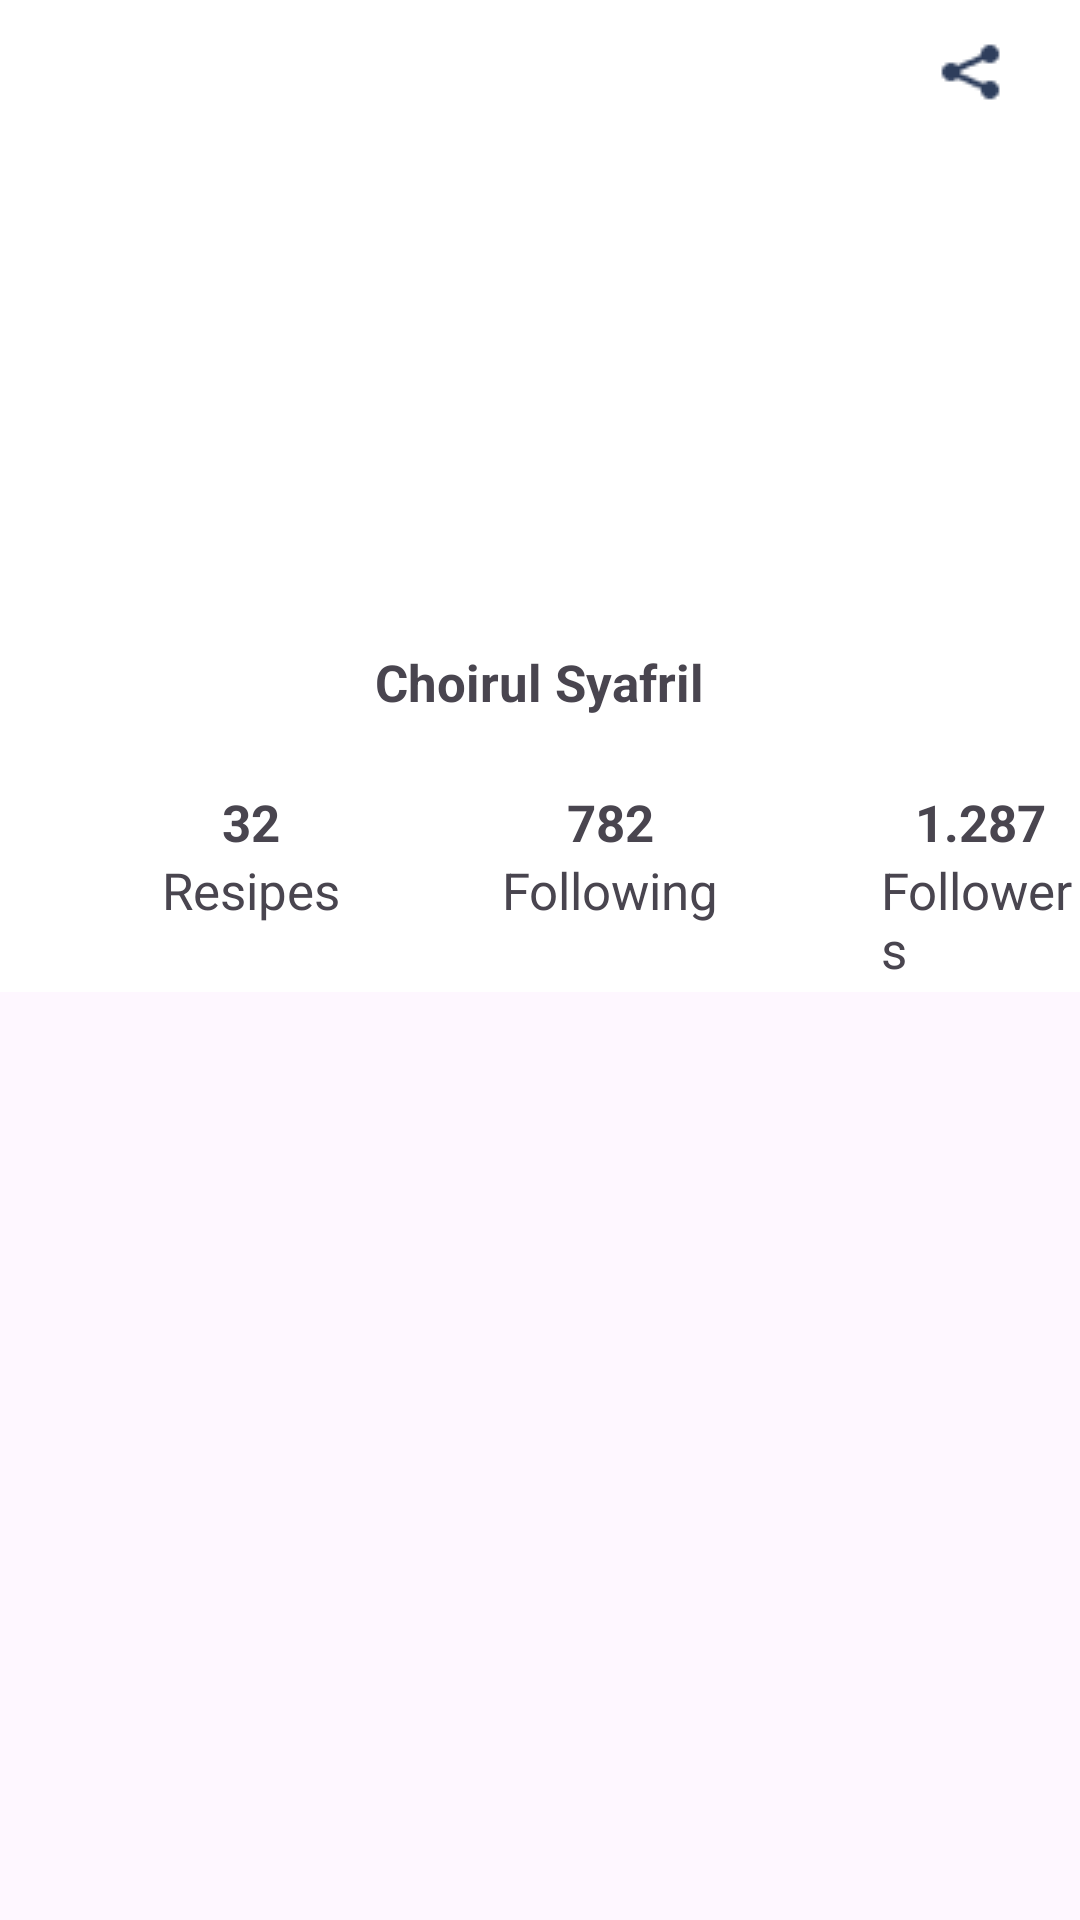

Locate icon controls on the screen. Image size 1080 × 1920, boxes as (x1, y1, x2, y2).
share: (941, 44, 1000, 100)
